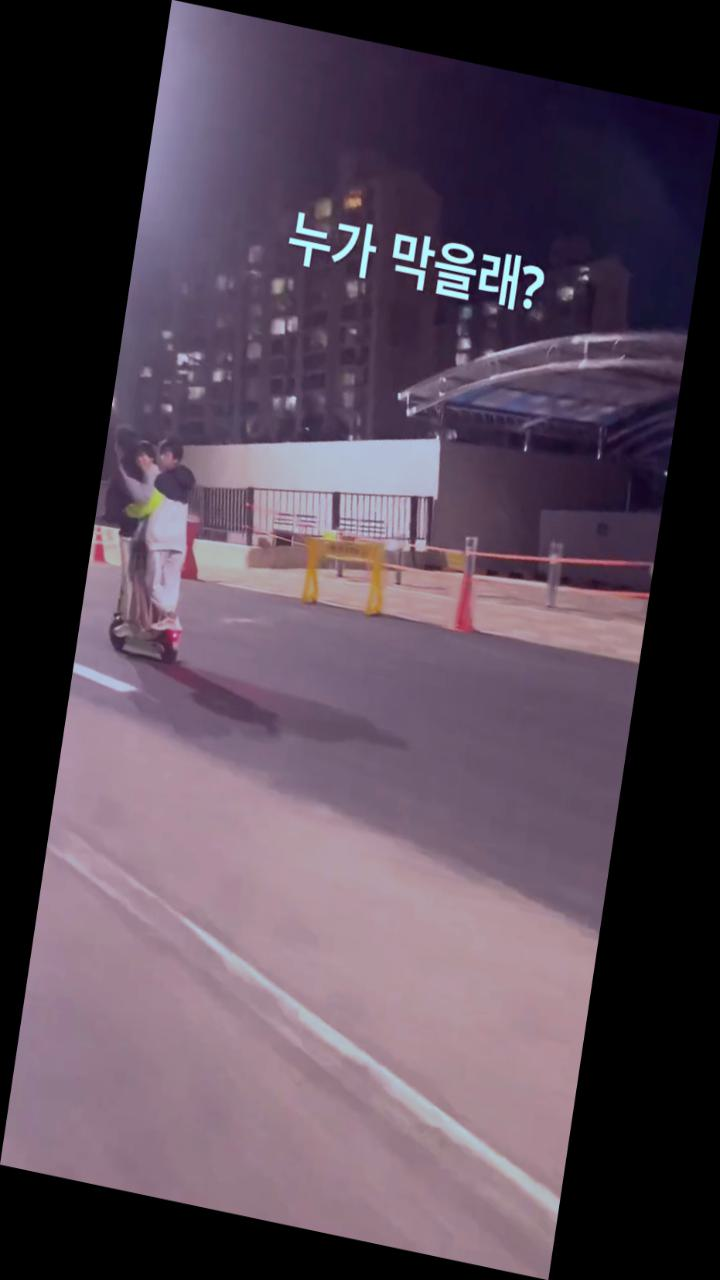multiple: (77, 420, 215, 672)
